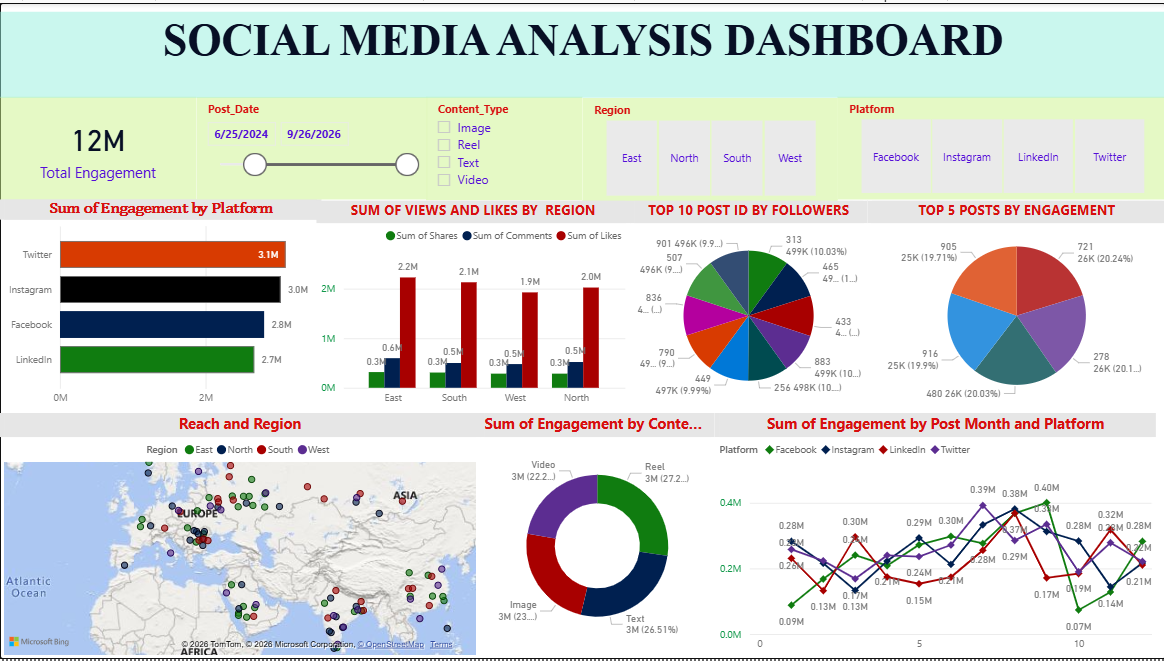

The dashboard page shown, as its layout file describes it:
{"tool":"powerbi","page":{"name":"Page 2","canvas":[1280,720],"ordinal":1},"visuals":[{"type":"card","fields":{"Values":["Sheet1.Total Engagement"]},"box":[0,102.9,215.4,113.9],"z":0},{"type":"barChart","fields":{"Category":["Sheet1.Platform"],"Y":["Sum(Sheet1.Engagement)"]},"box":[0,215.4,352.7,234.6],"z":1},{"type":"map","fields":{"Category":["Sheet1.Reach"],"Series":["Sheet1.Region"]},"box":[0,450.1,526.9,270.3],"z":2},{"type":"donutChart","fields":{"Y":["Sum(Sheet1.Engagement)"],"Category":["Sheet1.Content_Type"]},"box":[526.9,450.1,258,270.3],"z":3},{"type":"lineChart","fields":{"Y":["Sum(Sheet1.Engagement)"],"Category":["Sheet1.Post Month"],"Series":["Sheet1.Platform"]},"box":[784.9,450.1,484.4,270.3],"z":4},{"type":"pieChart","title":"TOP 5 POSTS BY ENGAGEMENT","fields":{"Y":["Sum(Sheet1.Engagement)"],"Category":["Sheet1.Post_ID"]},"box":[952.3,216.8,328,233.3],"z":5},{"type":"slicer","fields":{"Values":["Sheet1.Platform"]},"box":[919.4,102.9,360.9,112.5],"z":6},{"type":"slicer","fields":{"Values":["Sheet1.Region"]},"box":[639.5,104.3,279.9,113.9],"z":7},{"type":"slicer","fields":{"Values":["Sheet1.Content_Type"]},"box":[467.9,102.9,171.5,113.9],"z":8},{"type":"slicer","fields":{"Values":["Sheet1.Post_Date"]},"box":[215.4,102.9,252.5,112.5],"z":9},{"type":"clusteredColumnChart","title":"SUM OF VIEWS AND LIKES BY  REGION","fields":{"Category":["Sheet1.Region"],"Y":["Sum(Sheet1.Shares)","Sum(Sheet1.Comments)","Sum(Sheet1.Likes)"]},"box":[347.2,216.8,344.4,233.3],"z":10},{"type":"pieChart","title":"TOP 10 POST ID BY FOLLOWERS","fields":{"Y":["Sum(Sheet1.Followers)"],"Category":["Sheet1.Post_ID"]},"box":[691.6,216.8,260.7,233.3],"z":11},{"type":"textbox","box":[0,9.6,1280.3,94.7],"z":12}]}

Visuals, with their boxes in screenshot pixels (x1, y1, x2, y2), scaled from the page's 1280x720 canvas onto the 1164x661 screenshot:
card - Sheet1.Total Engagement: bbox=(0, 94, 196, 199)
barChart - Sheet1.Platform x Sum(Sheet1.Engagement): bbox=(0, 198, 321, 413)
map - Sheet1.Reach x Sheet1.Region: bbox=(0, 413, 479, 660)
donutChart - Sum(Sheet1.Engagement) x Sheet1.Content_Type: bbox=(479, 413, 714, 660)
lineChart - Sum(Sheet1.Engagement) x Sheet1.Post Month: bbox=(714, 413, 1154, 660)
"TOP 5 POSTS BY ENGAGEMENT" pieChart: bbox=(866, 199, 1163, 413)
slicer - Sheet1.Platform: bbox=(836, 94, 1163, 198)
slicer - Sheet1.Region: bbox=(582, 96, 836, 200)
slicer - Sheet1.Content_Type: bbox=(425, 94, 581, 199)
slicer - Sheet1.Post_Date: bbox=(196, 94, 425, 198)
"SUM OF VIEWS AND LIKES BY  REGION" clusteredColumnChart: bbox=(316, 199, 629, 413)
"TOP 10 POST ID BY FOLLOWERS" pieChart: bbox=(629, 199, 866, 413)
textbox: bbox=(0, 9, 1163, 96)
